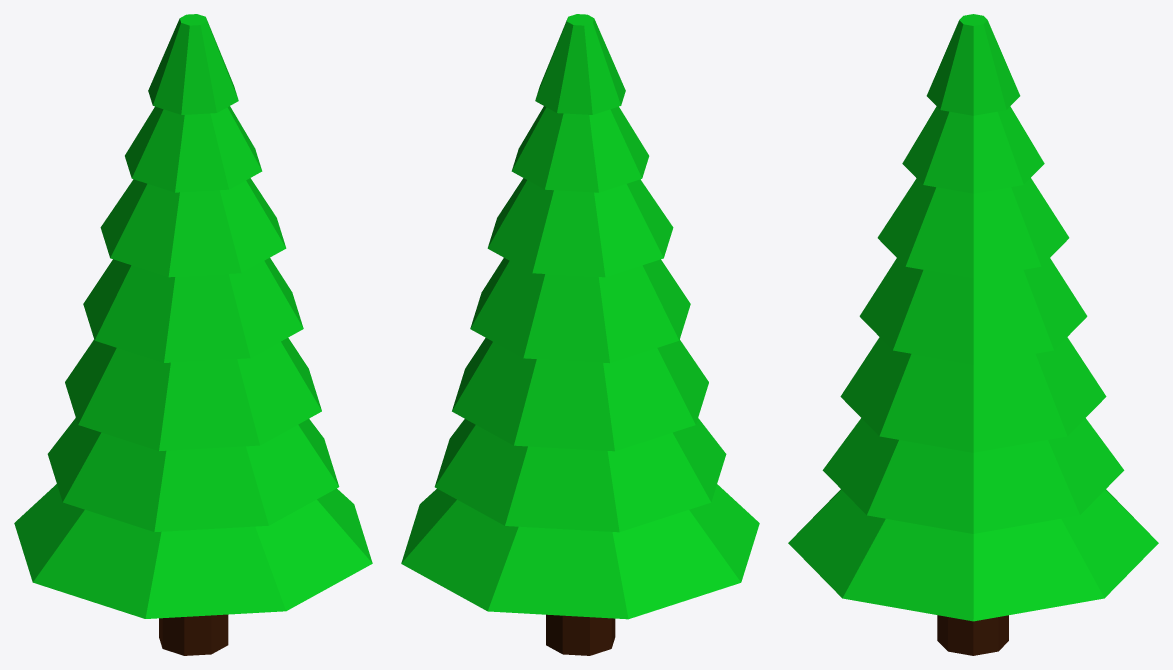
The model's file is ExportedBlenderFBXFile.fbx.
3 views of the same model, side by side, from view 1: azimuth 30°, elevation 25°; view 2: azimuth 150°, elevation 25°; view 3: azimuth 270°, elevation 25° (orthographic).
Parts seen in each view (by area): view 1: Cylinder, Cylinder_001; view 2: Cylinder, Cylinder_001; view 3: Cylinder, Cylinder_001.
Part boxes in pixels (<box>): Cylinder: <box>14,14,372,618</box>; Cylinder_001: <box>159,614,228,655</box>; Cylinder: <box>401,14,759,619</box>; Cylinder_001: <box>546,614,615,655</box>; Cylinder: <box>788,14,1158,621</box>; Cylinder_001: <box>937,615,1008,655</box>.
Size of the model in its own units: 2.64 by 4.87 by 2.64.
